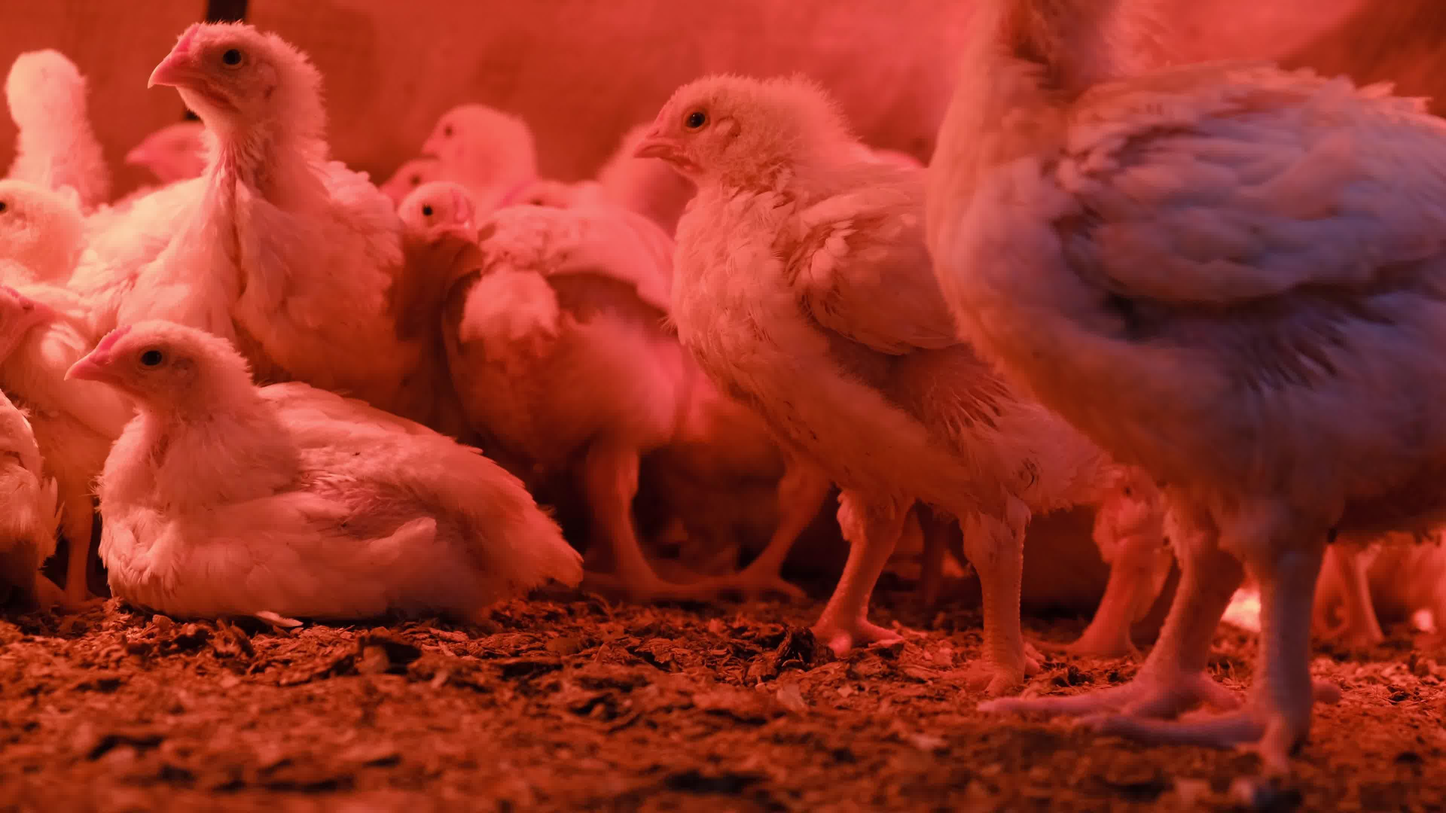AbNormal: (63, 318, 578, 608), (0, 285, 57, 613), (1316, 518, 1443, 655)
Normal: (919, 0, 1436, 759), (633, 74, 1134, 676), (73, 17, 416, 426), (424, 100, 689, 563), (0, 170, 152, 614), (369, 181, 484, 440), (7, 40, 113, 214), (121, 121, 201, 190), (369, 155, 436, 197)
